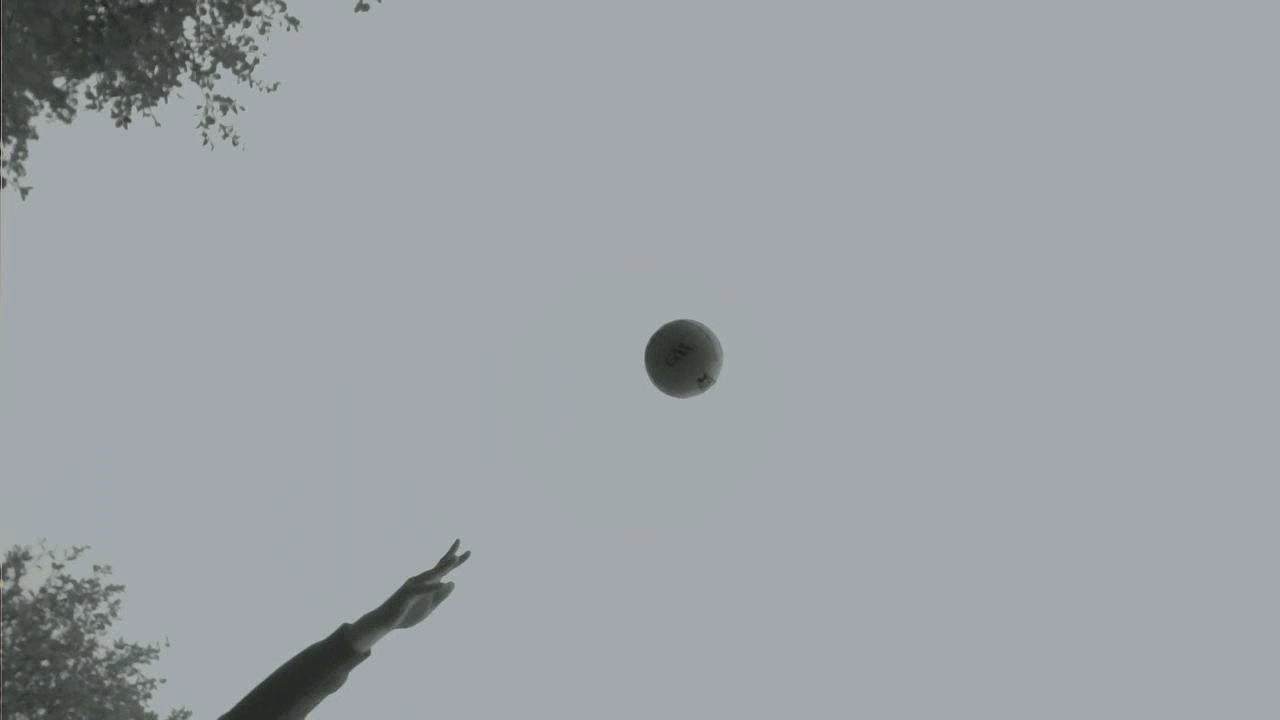Football-Spotter: (645, 319, 722, 397)
